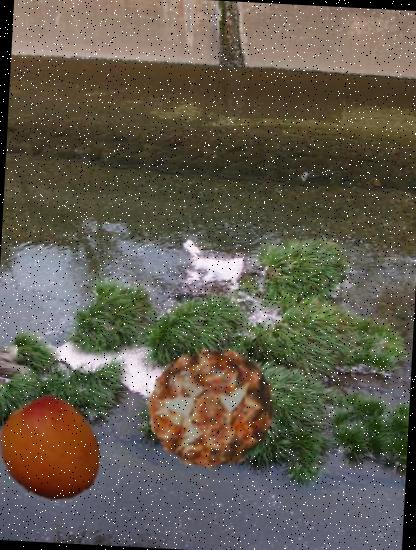Apricot: (0, 393, 108, 508)
Pineapple: (144, 341, 280, 476)
